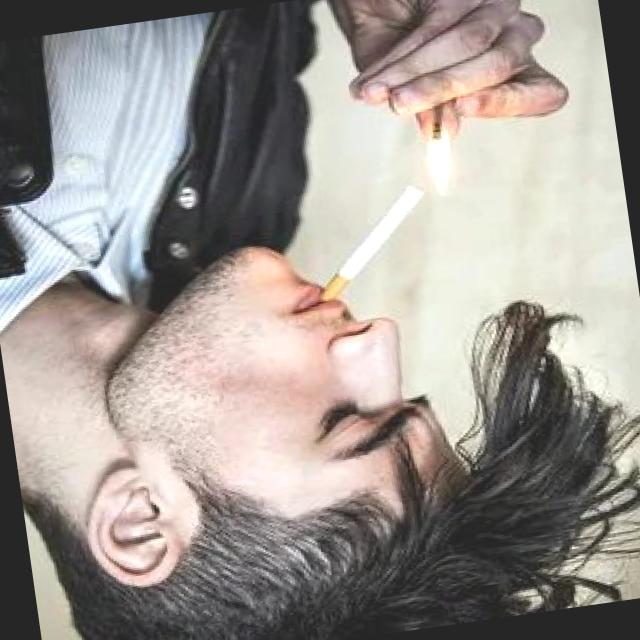cigarette: (303, 174, 440, 304)
